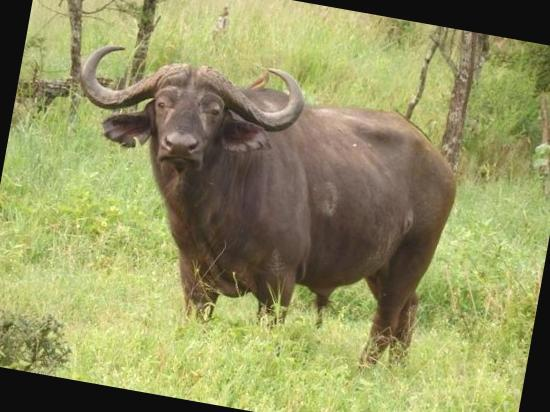Buffalo: (3, 8, 481, 412)
